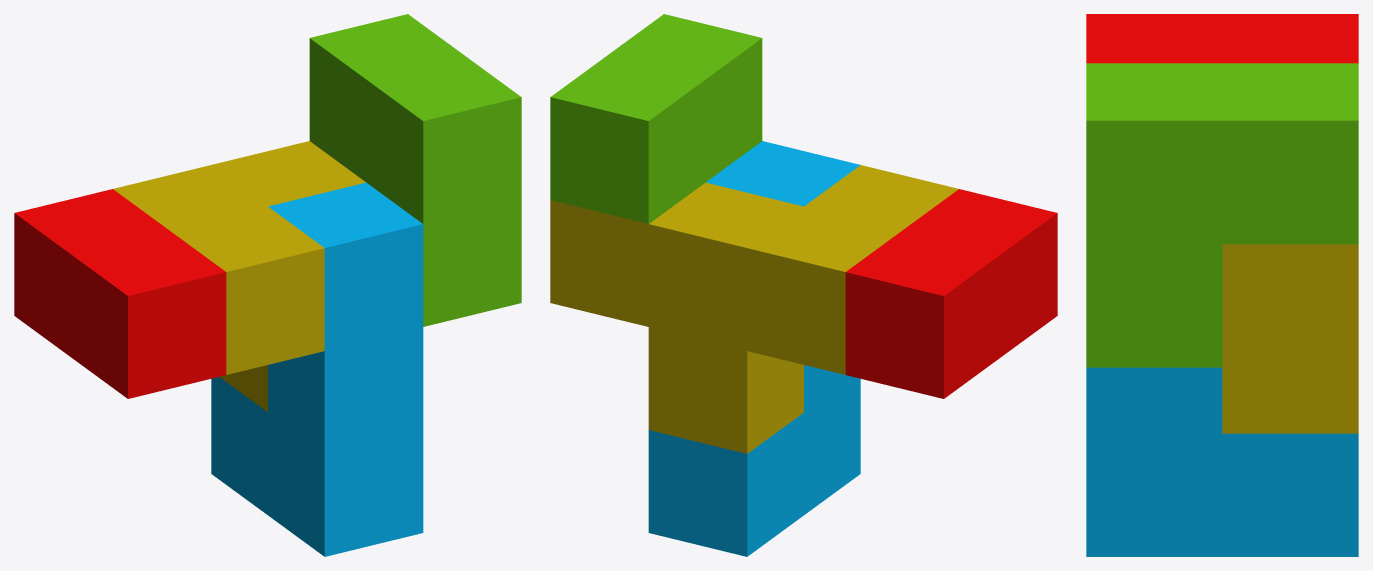
3 views of the same model, side by side, from view 1: azimuth 30°, elevation 25°; view 2: azimuth 150°, elevation 25°; view 3: azimuth 270°, elevation 25° (orthographic). The views are drawn at different scales.
Parts seen in each view (by area): view 1: mergedBlocks(Clone); view 2: mergedBlocks(Clone); view 3: mergedBlocks(Clone).
Part boxes in pixels (x1=…): mergedBlocks(Clone): x1=14, y1=14, x2=521, y2=556; mergedBlocks(Clone): x1=550, y1=14, x2=1057, y2=556; mergedBlocks(Clone): x1=1086, y1=14, x2=1358, y2=556.
Size of the model in its own units: 4 by 4 by 2.
4 materials, 4 textured.
